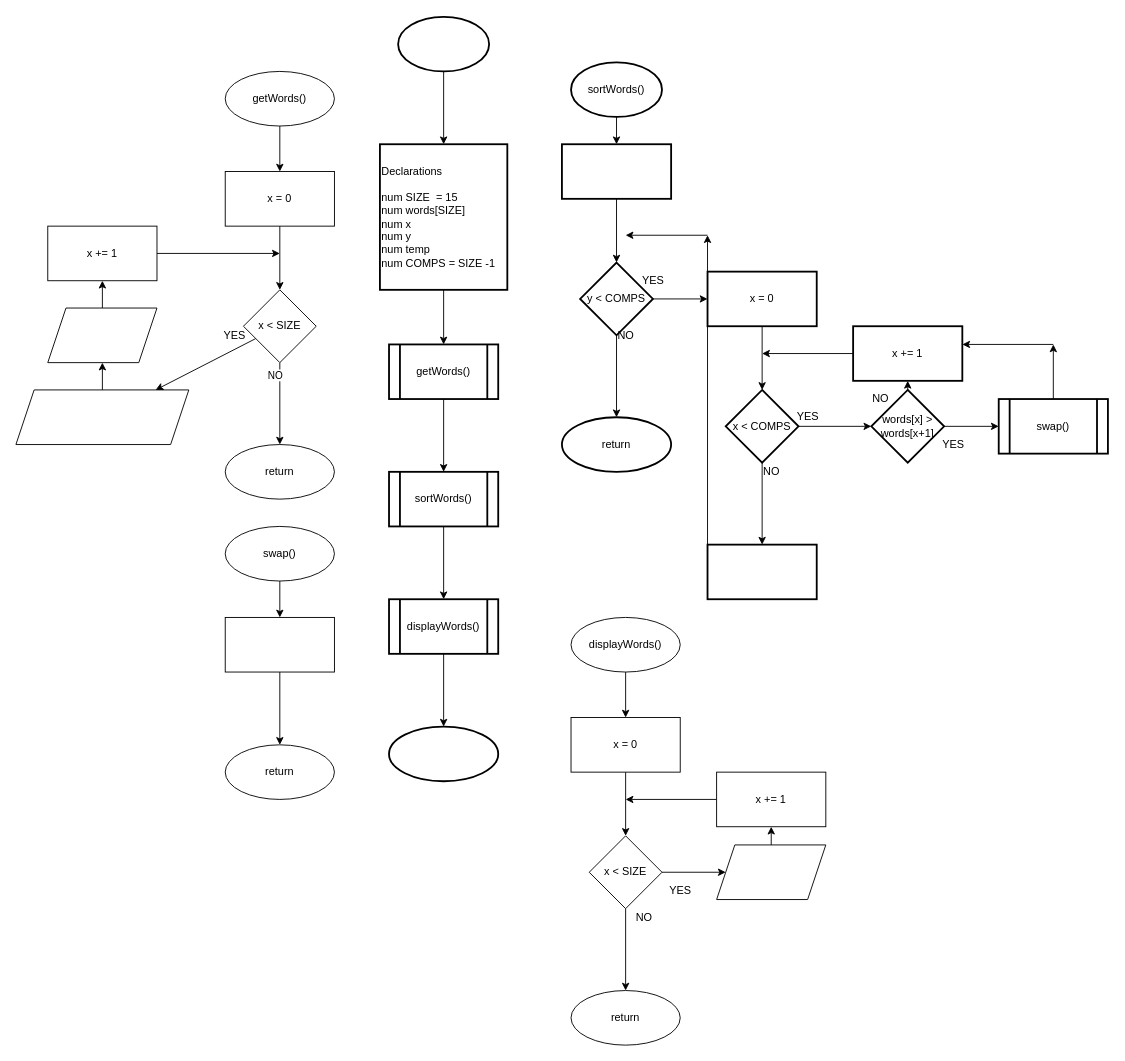
The diagram is 1125 pixels wide and 1061 high, and some of its shapes have lost their labels. Here are the shapes that lost their labels. From the top down, the centre of each, then its label:
(x=443, y=43): start
(x=616, y=171): y = 0
(x=102, y=335): input words[x]
(x=102, y=417): output "Enter a word"
(x=761, y=571): y += 1
(x=279, y=644): temp = words[x+1] words[x+1] = words[x] words[x] = temp
(x=443, y=753): stop
(x=771, y=872): output words[x]
